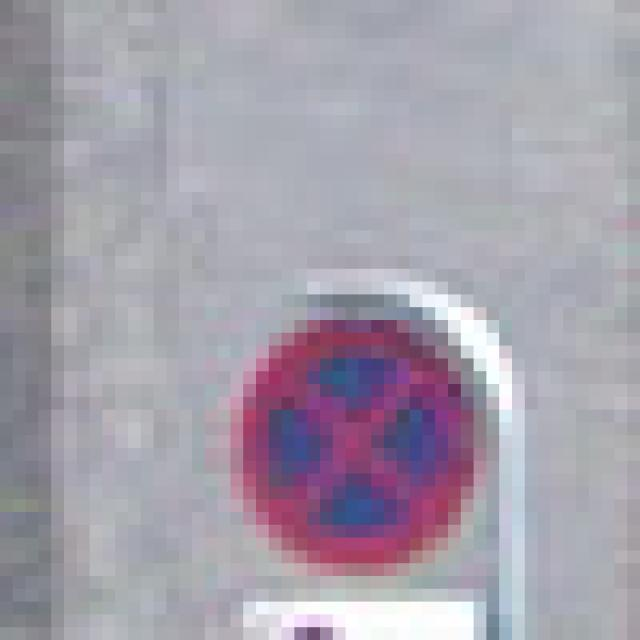no_fire: (13, 26, 640, 614)
